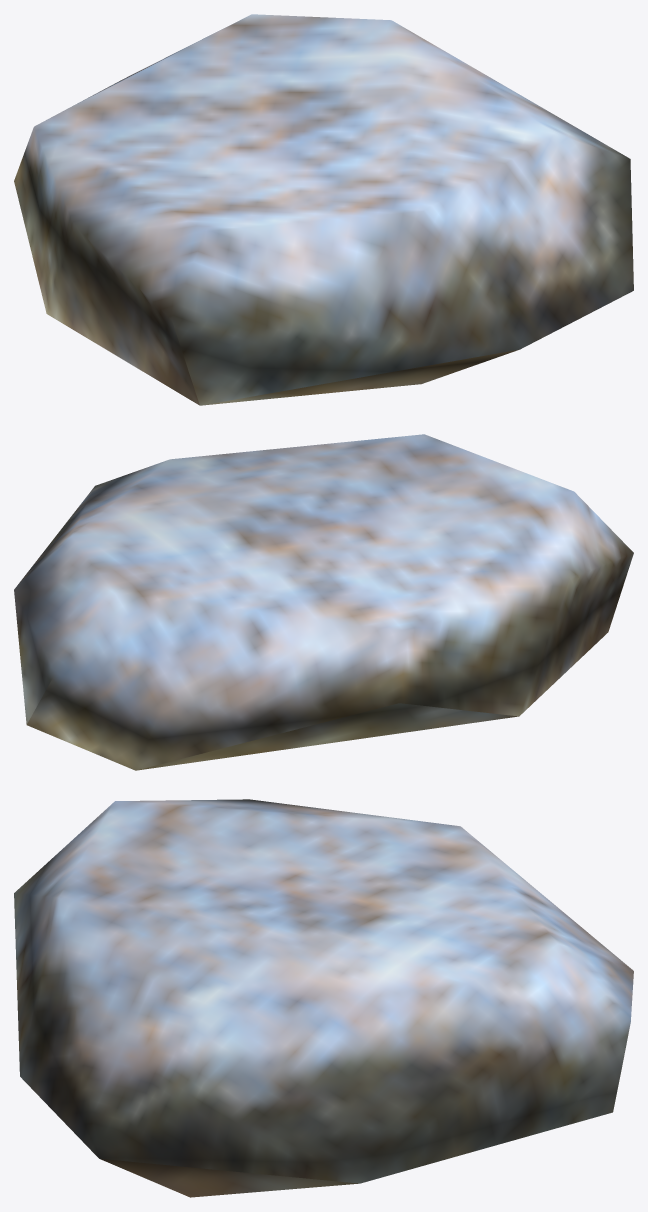
The model's file is SM_EN_2007_shitou09.FBX.
The picture shows the model from 3 angles, top to bottom: view 1: azimuth 30°, elevation 25°; view 2: azimuth 150°, elevation 25°; view 3: azimuth 270°, elevation 25°; orthographic projection. The views are drawn at different scales.
Visible parts, largest first — view 1: SM_EN_2007_shitou09; view 2: SM_EN_2007_shitou09; view 3: SM_EN_2007_shitou09.
Boxes of the visible parts, box(x1,y1,x2,y2) form: SM_EN_2007_shitou09: box(14, 14, 633, 405); SM_EN_2007_shitou09: box(14, 434, 633, 770); SM_EN_2007_shitou09: box(14, 799, 633, 1197).
Bounding box in the file's own units: 35.44 × 13.63 × 36.05.
